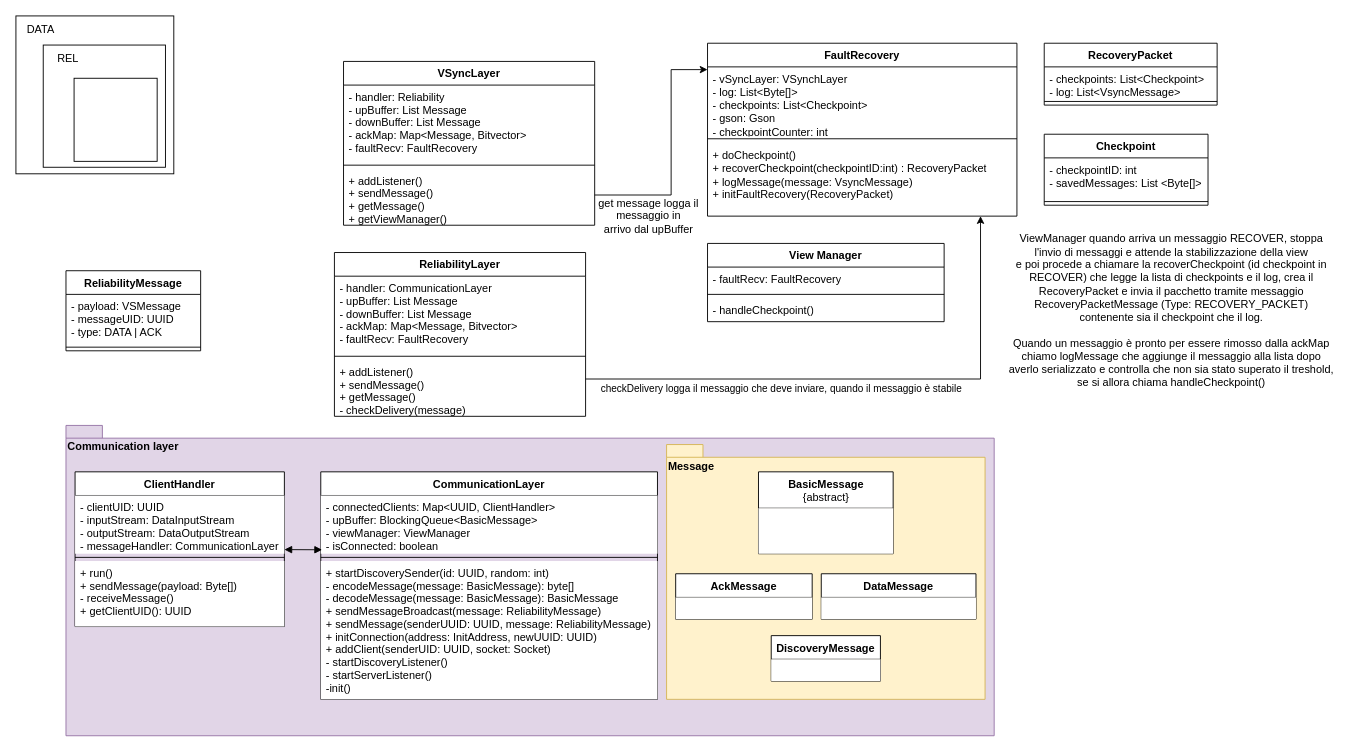
This 1351x752 diagram has some shape labels left out. Here are the shapes that lost their labels. From the top down, the centre of each, then its label:
At [115,119]: "VSYNC".
At [825,530]: "- timestamp : DateTime - senderUID: UUID - type : Enum".
At [743,608]: "- referenceNumber: UUID".
At [898,608]: "- payload: ReliabilityMessage".
At [825,670]: "- random: int".
